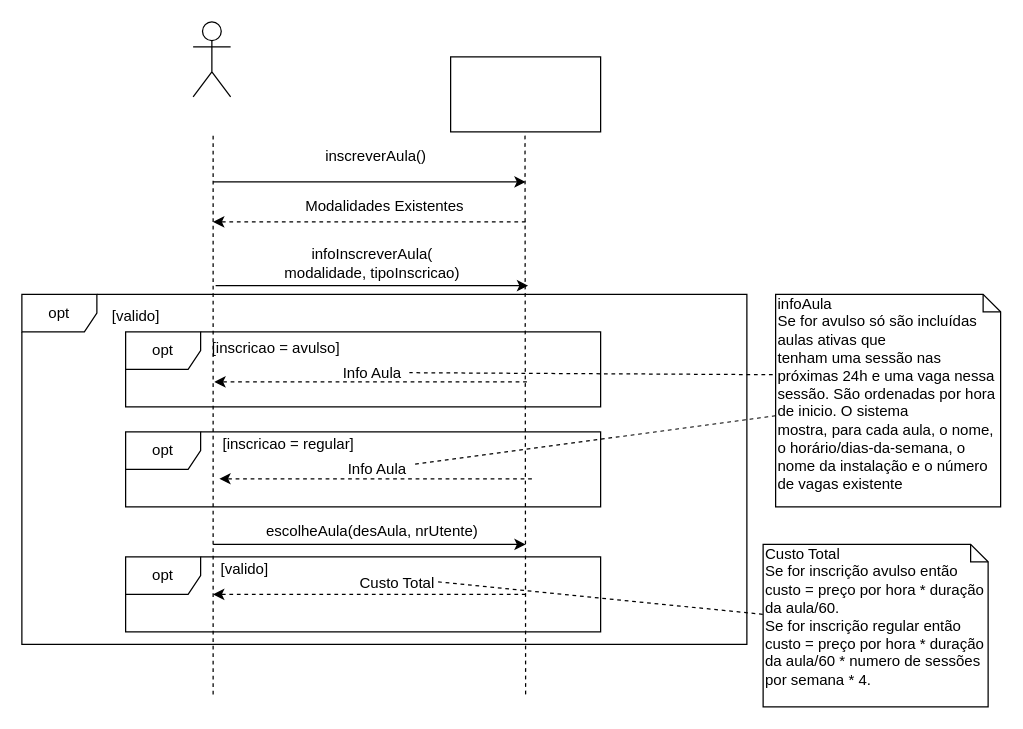
This 1023x729 diagram has some shape labels left out. Here are the shapes that lost their labels. From the top down, the box of each, then its label:
(192, 21, 231, 97): Utente
(449, 56, 601, 132): :AulaGes
